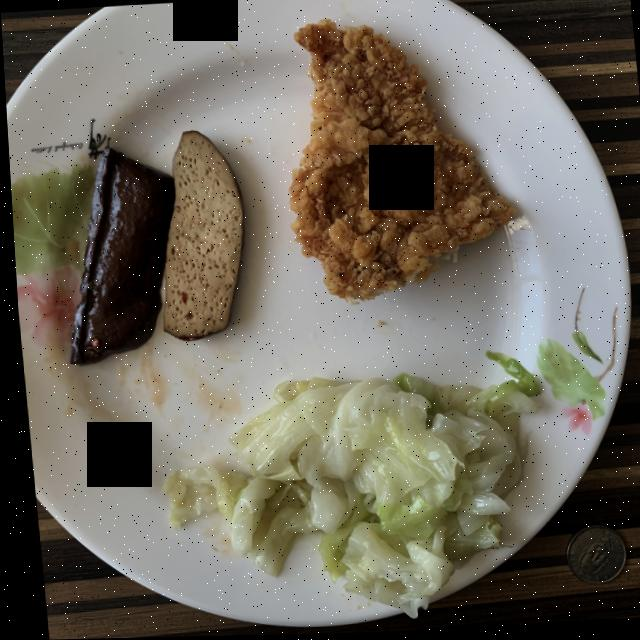cabbage: (159, 360, 531, 614)
coin: (559, 527, 619, 585)
firm tofu: (65, 131, 240, 364)
fried chicken cutlet: (286, 20, 511, 304)
